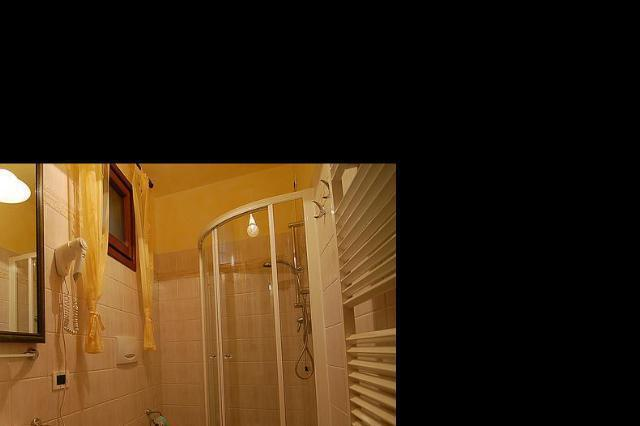Ducha: (195, 203, 336, 426)
Lavamanos: (0, 410, 100, 426)
